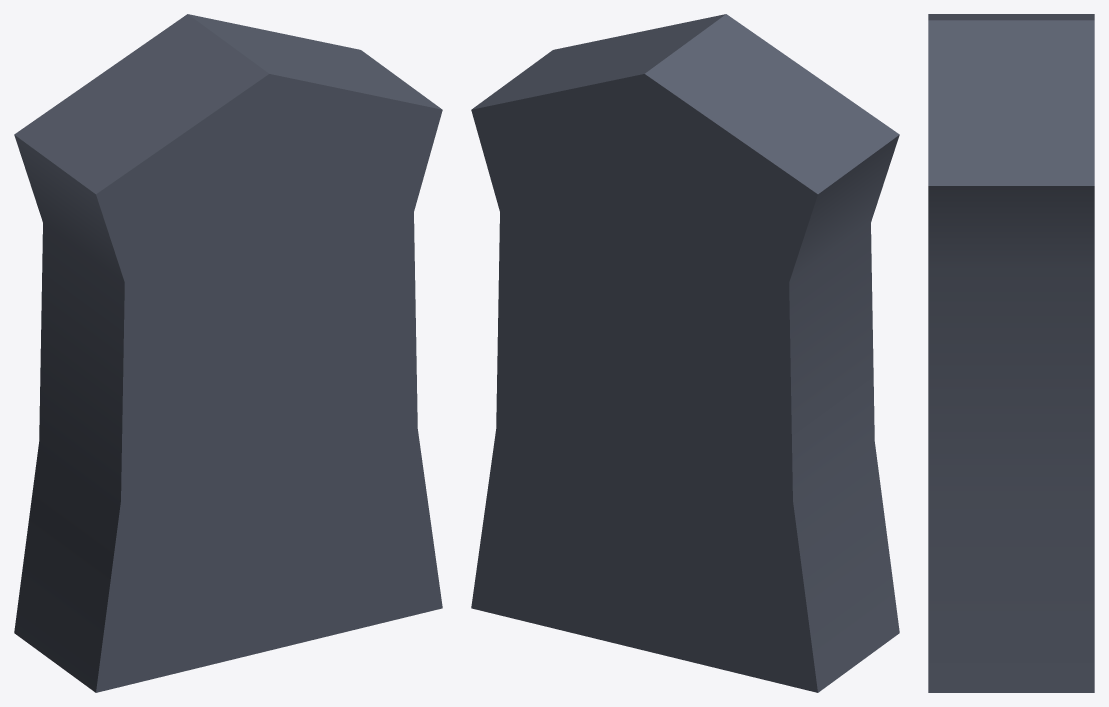
The model's file is Mesh_gravestpne_4.fbx.
3 views of the same model, side by side, from view 1: azimuth 30°, elevation 25°; view 2: azimuth 150°, elevation 25°; view 3: azimuth 270°, elevation 25° (orthographic).
Visible parts, largest first — view 1: gravestpne_4; view 2: gravestpne_4; view 3: gravestpne_4.
Boxes of the visible parts, x1=… form: gravestpne_4: x1=14, y1=14, x2=442, y2=692; gravestpne_4: x1=471, y1=14, x2=899, y2=692; gravestpne_4: x1=928, y1=14, x2=1094, y2=692.
Bounding box in the file's own units: 107 × 170 × 43.67.
1 material, 1 textured.
